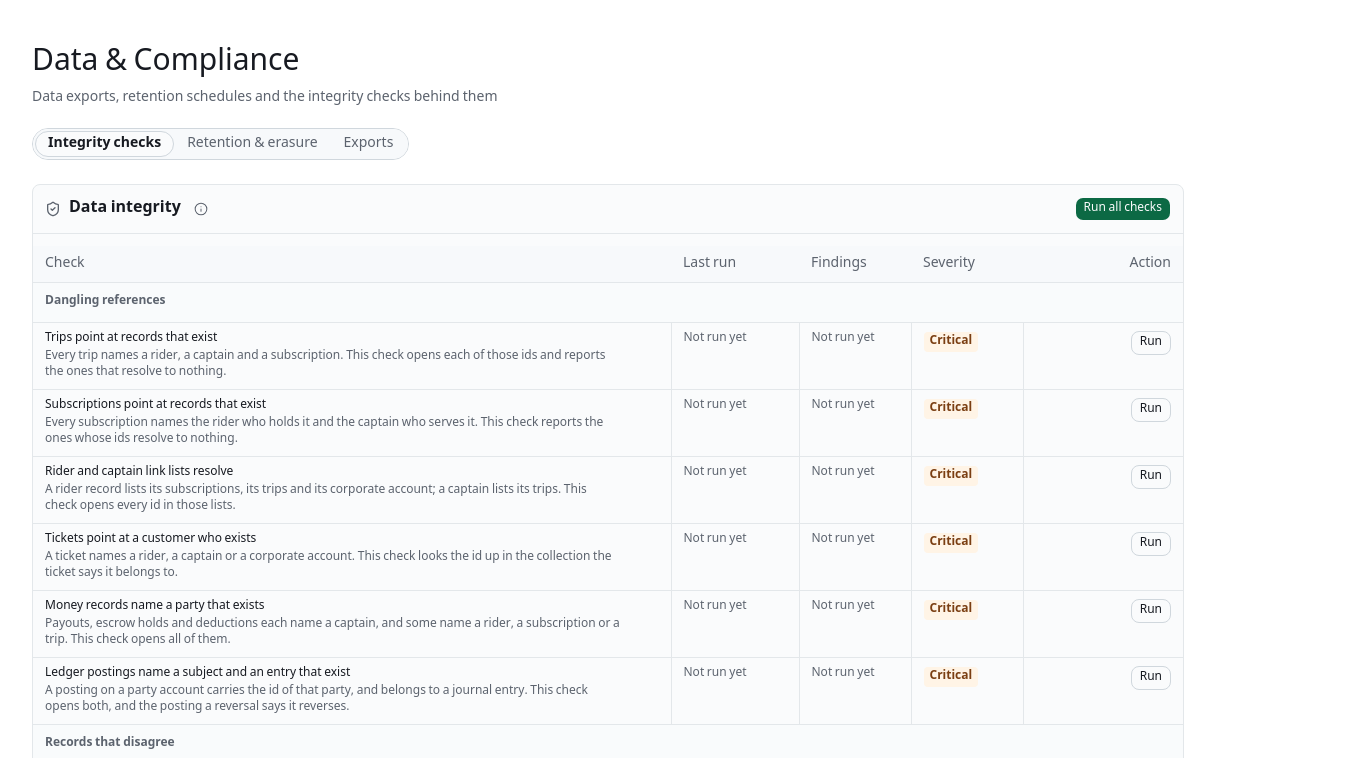
Test: "not run" and "found nothing" are different words › says Passed for a check that ran and found nothing
The width and height of the screenshot is (1366, 758).
Expected: the text "Passed" is not shown
Click the button "Run all checks".
click(1123, 209)  # box 1075,197 -> 1171,221
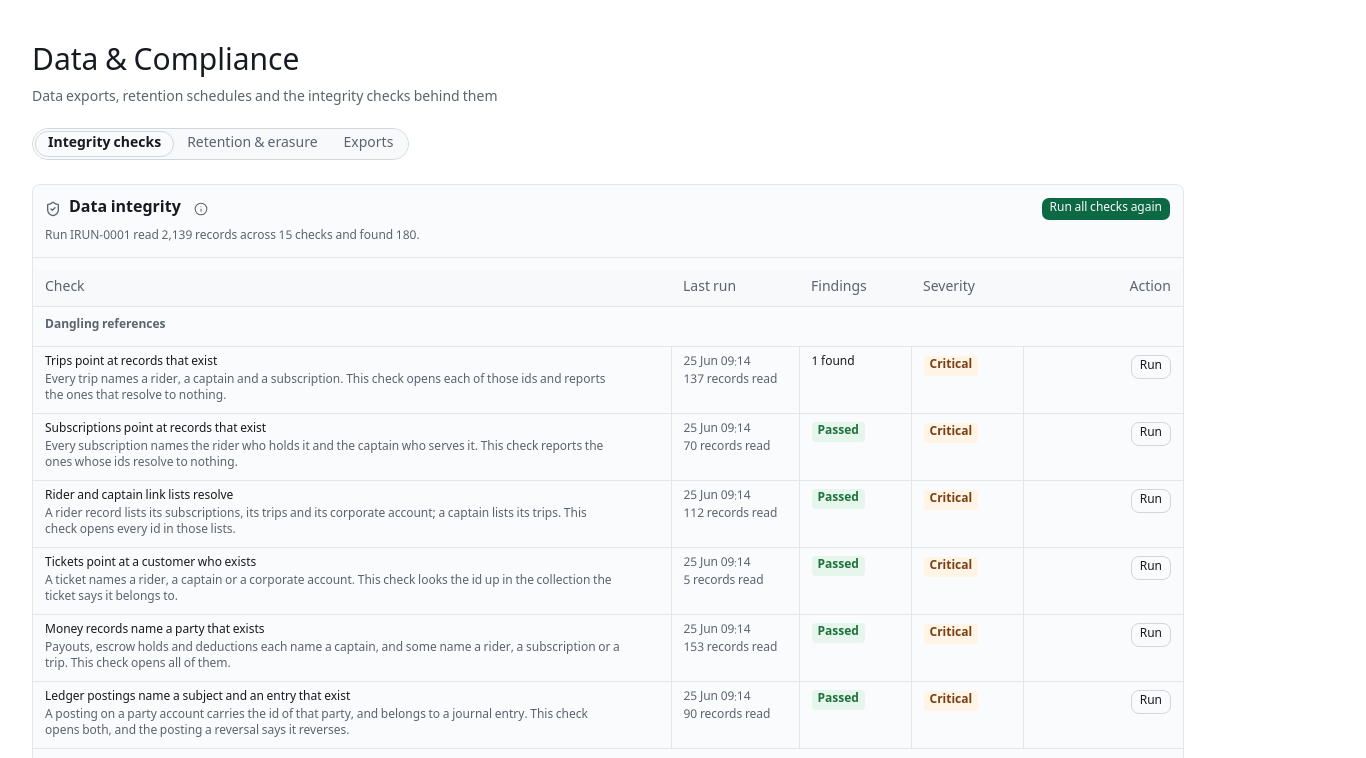
Expected: the text "Passed" next to "70 records read" is shown, 818,420 -> 859,442
